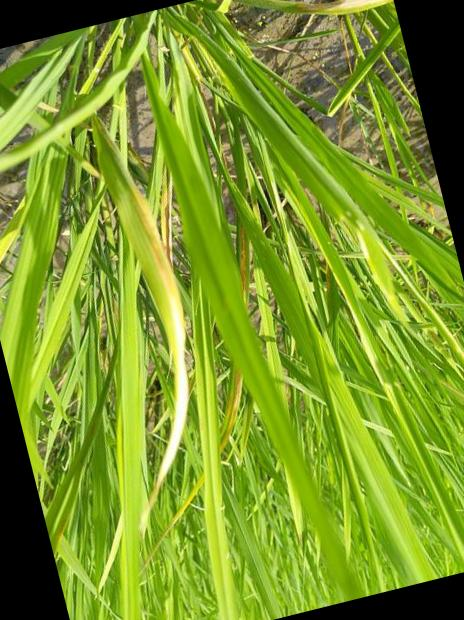Leaf Blight: (102, 122, 189, 535), (141, 473, 206, 569), (219, 365, 244, 450), (236, 214, 250, 305)
